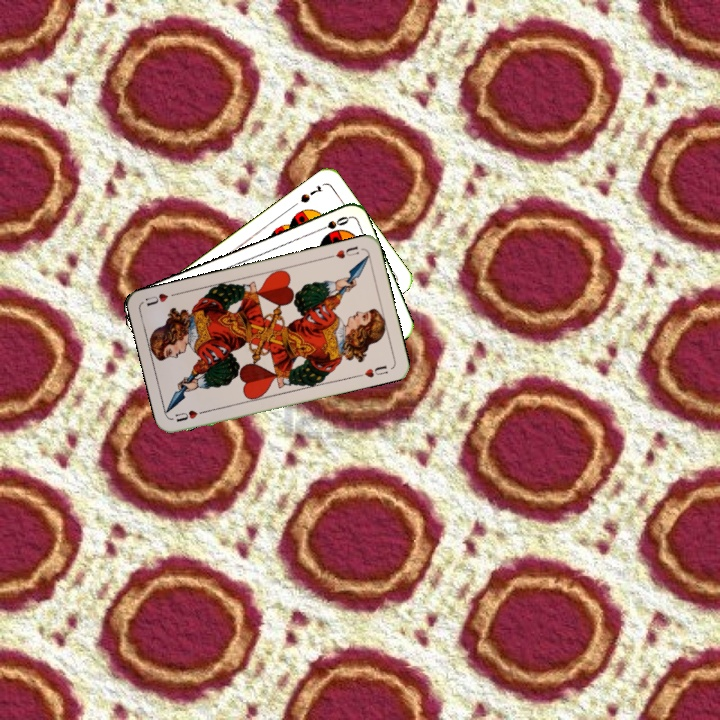HU: (324, 242, 362, 261), (171, 406, 210, 424)
S7: (296, 181, 326, 205)
SO: (312, 212, 352, 234)
